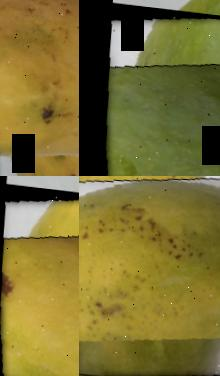PartiallyRipe: (79, 176, 220, 376), (0, 187, 79, 376)
Ripe: (0, 0, 79, 176)
Unripe: (83, 6, 220, 176)
